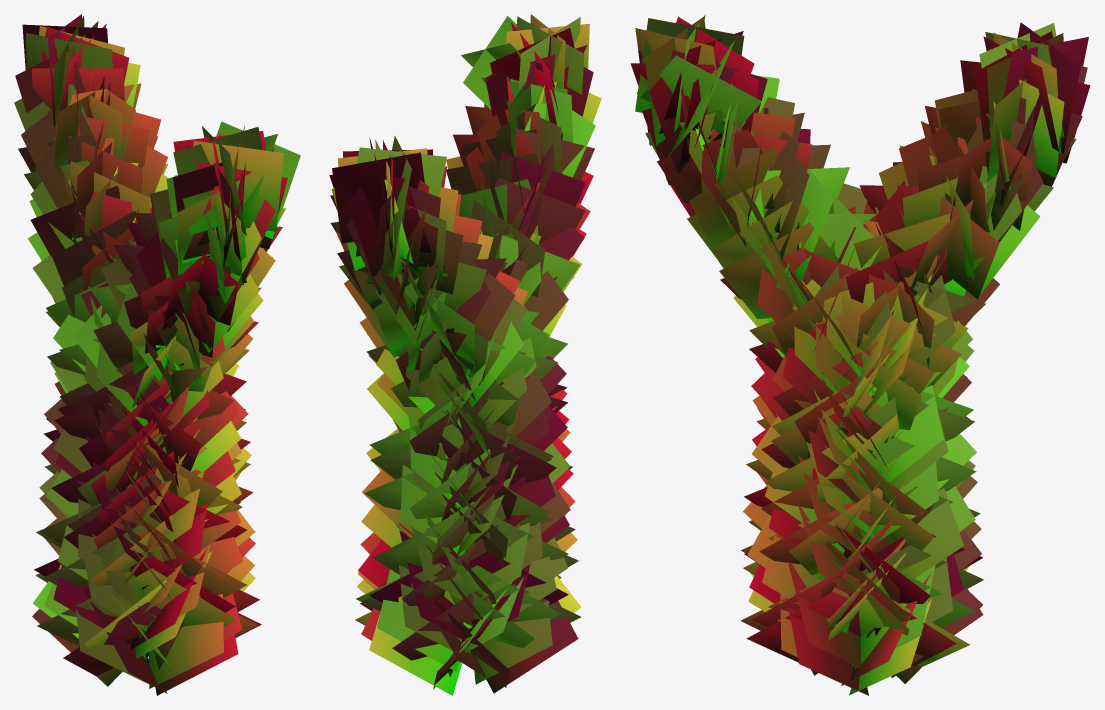
Rendered from URP_P4_Tree_11_LOD_2.fbx.
3 views of the same model, side by side, from view 1: azimuth 30°, elevation 25°; view 2: azimuth 150°, elevation 25°; view 3: azimuth 270°, elevation 25° (orthographic). The views are drawn at different scales.
Visible parts, largest first — view 1: Tree_11_LOD_2; view 2: Tree_11_LOD_2; view 3: Tree_11_LOD_2.
Boxes of the visible parts, x1,y1,x2,y2 form: Tree_11_LOD_2: (14,14,300,695); Tree_11_LOD_2: (329,14,601,695); Tree_11_LOD_2: (630,14,1090,695).
Bounding box in the file's own units: 211 × 622 × 397.
